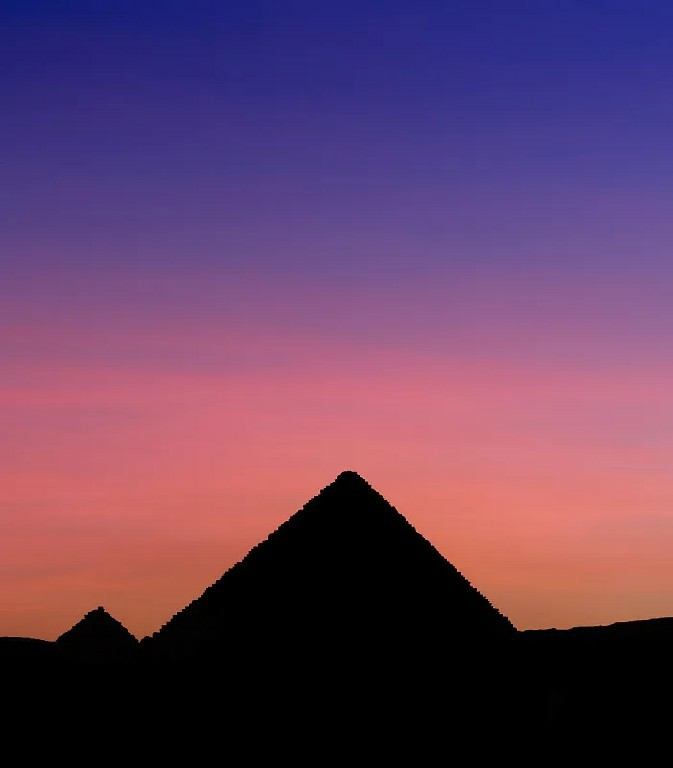Pyramid: (143, 471, 520, 651), (54, 604, 141, 652)
